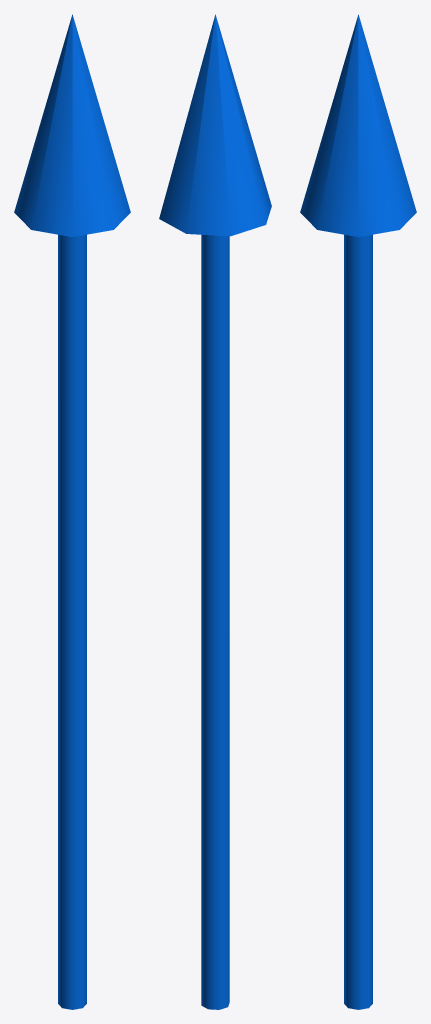
File: arrow.dae
3 renders of one model, left to right at view 1: azimuth 90°, elevation 25°; view 2: azimuth 150°, elevation 25°; view 3: azimuth 270°, elevation 25°, orthographic.
Visible parts, largest first — view 1: arrow; view 2: arrow; view 3: arrow.
Boxes of the visible parts, x1,y1,x2,y2 form: arrow: [14, 14, 130, 1009]; arrow: [159, 14, 271, 1009]; arrow: [300, 14, 416, 1009].
Bounding box in the file's own units: 8 × 74.79 × 8.
